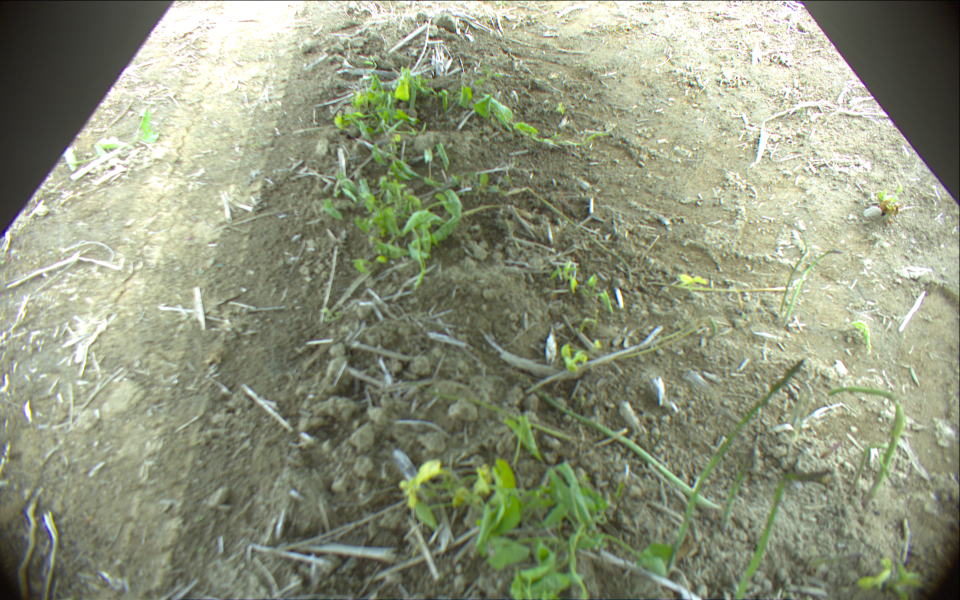aspa: (670, 356, 807, 551), (533, 380, 720, 511), (415, 379, 576, 445), (736, 459, 803, 600), (829, 386, 902, 509), (784, 248, 842, 321), (722, 444, 758, 527), (776, 234, 809, 316), (650, 278, 794, 295), (846, 447, 872, 501)
